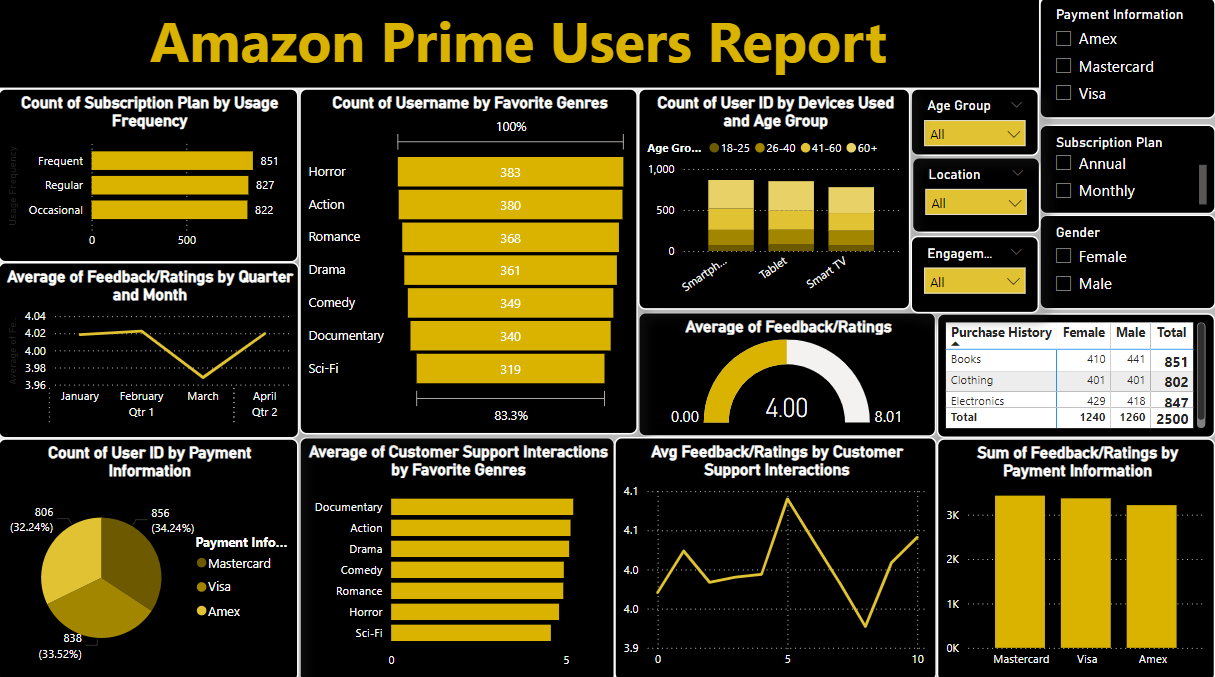

The dashboard page shown, as its layout file describes it:
{"tool":"powerbi","page":{"name":"Page 1","canvas":[1280,720],"ordinal":0},"visuals":[{"type":"gauge","fields":{"Y":["Avg(amazon_prime_users.Feedback/Ratings)"]},"box":[673.2,330.6,313.7,131.5],"z":0},{"type":"clusteredBarChart","fields":{"Y":["CountNonNull(amazon_prime_users.Subscription Plan)"],"Category":["amazon_prime_users.Usage Frequency"]},"box":[0,95.3,316.1,183.4],"z":1000},{"type":"lineChart","fields":{"Category":["amazon_prime_users.Membership Start Date.Variation.Date Hierarchy.Quarter","amazon_prime_users.Membership Start Date.Variation.Date Hierarchy.Month"],"Y":["Avg(amazon_prime_users.Feedback/Ratings)"]},"box":[0,278.6,316.7,185.3],"z":2000},{"type":"barChart","fields":{"Y":["Avg(amazon_prime_users.Customer Support Interactions)"],"Category":["amazon_prime_users.Favorite Genres"]},"box":[316.1,462.1,331.8,258.2],"z":3000},{"type":"pieChart","fields":{"Category":["amazon_prime_users.Payment Information"],"Y":["CountNonNull(amazon_prime_users.User ID)"]},"box":[0,464.5,316.1,255.8],"z":4000},{"type":"slicer","fields":{"Values":["amazon_prime_users.Payment Information"]},"box":[1094.2,0,185.8,127.9],"z":5000},{"type":"slicer","fields":{"Values":["amazon_prime_users.Subscription Plan"]},"box":[1094.2,134.5,185.8,94.1],"z":6000},{"type":"slicer","fields":{"Values":["amazon_prime_users.Gender"]},"box":[1094.7,228.7,185.3,99.9],"z":7000},{"type":"slicer","fields":{"Values":["amazon_prime_users.Location"]},"box":[960.7,168.9,135.4,80.2],"z":8000},{"type":"funnel","fields":{"Category":["amazon_prime_users.Favorite Genres"],"Y":["CountNonNull(amazon_prime_users.Username)"]},"box":[316.7,95.9,356.1,364],"z":9000},{"type":"lineChart","title":"Avg Feedback/Ratings by Customer Support Interactions","fields":{"Y":["Avg(amazon_prime_users.Feedback/Ratings)"],"Category":["amazon_prime_users.Customer Support Interactions"]},"box":[647.9,462.1,339,257],"z":10000},{"type":"pivotTable","fields":{"Rows":["amazon_prime_users.Purchase History"],"Values":["CountNonNull(amazon_prime_users.User ID)"],"Columns":["amazon_prime_users.Gender"]},"box":[986.9,333,293.2,131.5],"z":11000},{"type":"slicer","fields":{"Values":["amazon_prime_users.Age Group"]},"box":[959.3,95.9,135.4,71],"z":12000},{"type":"columnChart","fields":{"Category":["amazon_prime_users.Payment Information"],"Y":["Sum(amazon_prime_users.Feedback/Ratings)"]},"box":[986.9,464.5,293.2,255.8],"z":13000},{"type":"textbox","box":[0,0,1094.2,95.3],"z":14000},{"type":"columnChart","fields":{"Category":["amazon_prime_users.Devices Used"],"Y":["CountNonNull(amazon_prime_users.User ID)"],"Series":["amazon_prime_users.Age Group"]},"box":[672.9,95.9,286.5,232.6],"z":15000},{"type":"slicer","fields":{"Values":["amazon_prime_users.Engagement Metrics"]},"box":[959.3,251,135,81.5],"z":16000}]}

Visuals, with their boxes in screenshot pixels (x1, y1, x2, y2), scaled from the page's 1280x720 canvas onto the 1215x677 screenshot:
gauge - Avg(amazon_prime_users.Feedback/Ratings): detection(639, 311, 937, 435)
clusteredBarChart - CountNonNull(amazon_prime_users.Subscription Plan) x amazon_prime_users.Usage Frequency: detection(0, 90, 300, 262)
lineChart - amazon_prime_users.Membership Start Date.Variation.Date Hierarchy.Quarter x amazon_prime_users.Membership Start Date.Variation.Date Hierarchy.Month: detection(0, 262, 301, 436)
barChart - Avg(amazon_prime_users.Customer Support Interactions) x amazon_prime_users.Favorite Genres: detection(300, 435, 615, 676)
pieChart - amazon_prime_users.Payment Information x CountNonNull(amazon_prime_users.User ID): detection(0, 437, 300, 676)
slicer - amazon_prime_users.Payment Information: detection(1039, 0, 1214, 120)
slicer - amazon_prime_users.Subscription Plan: detection(1039, 126, 1214, 215)
slicer - amazon_prime_users.Gender: detection(1039, 215, 1214, 309)
slicer - amazon_prime_users.Location: detection(912, 159, 1040, 234)
funnel - amazon_prime_users.Favorite Genres x CountNonNull(amazon_prime_users.Username): detection(301, 90, 639, 432)
"Avg Feedback/Ratings by Customer Support Interactions" lineChart: detection(615, 435, 937, 676)
pivotTable - amazon_prime_users.Purchase History x CountNonNull(amazon_prime_users.User ID): detection(937, 313, 1214, 437)
slicer - amazon_prime_users.Age Group: detection(911, 90, 1039, 157)
columnChart - amazon_prime_users.Payment Information x Sum(amazon_prime_users.Feedback/Ratings): detection(937, 437, 1214, 676)
textbox: detection(0, 0, 1039, 90)
columnChart - amazon_prime_users.Devices Used x CountNonNull(amazon_prime_users.User ID): detection(639, 90, 911, 309)
slicer - amazon_prime_users.Engagement Metrics: detection(911, 236, 1039, 313)
